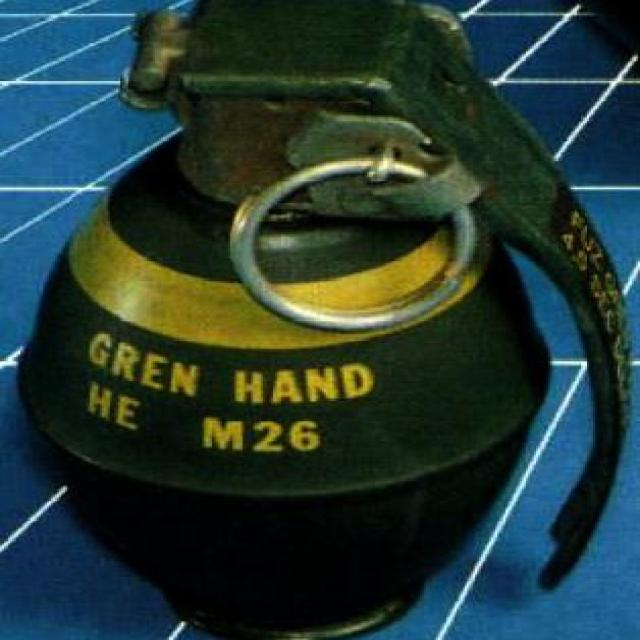grenade: (15, 1, 632, 639)
